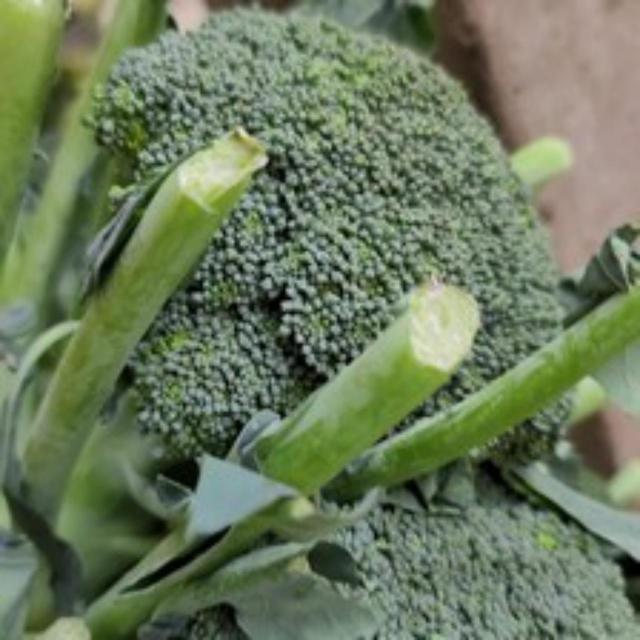broccoli: (88, 0, 566, 526)
